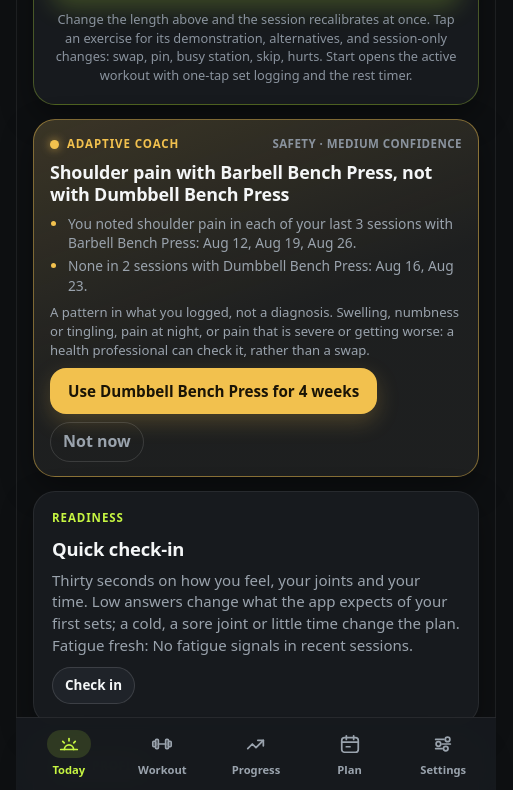
Test: a coach card's four-week swap › says when it could not be kept, and records nothing taken
(page scrolled)
Expected: the heading with test id "coach-headline" is shown, left=50, top=161, right=462, bottom=206
Click the button with test id "coach-action" at (214, 391), box left=50, top=368, right=377, bottom=414
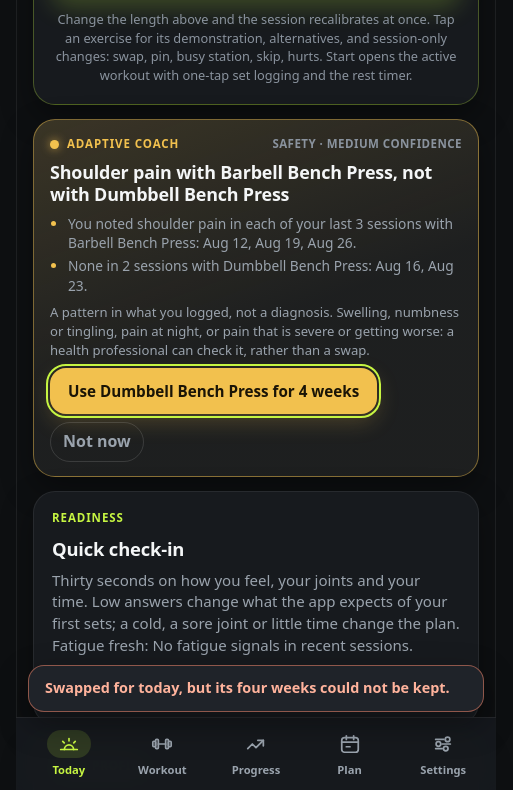
Expected: the text "Swapped for today, but its four weeks could not be kept." is shown, left=28, top=665, right=484, bottom=712
